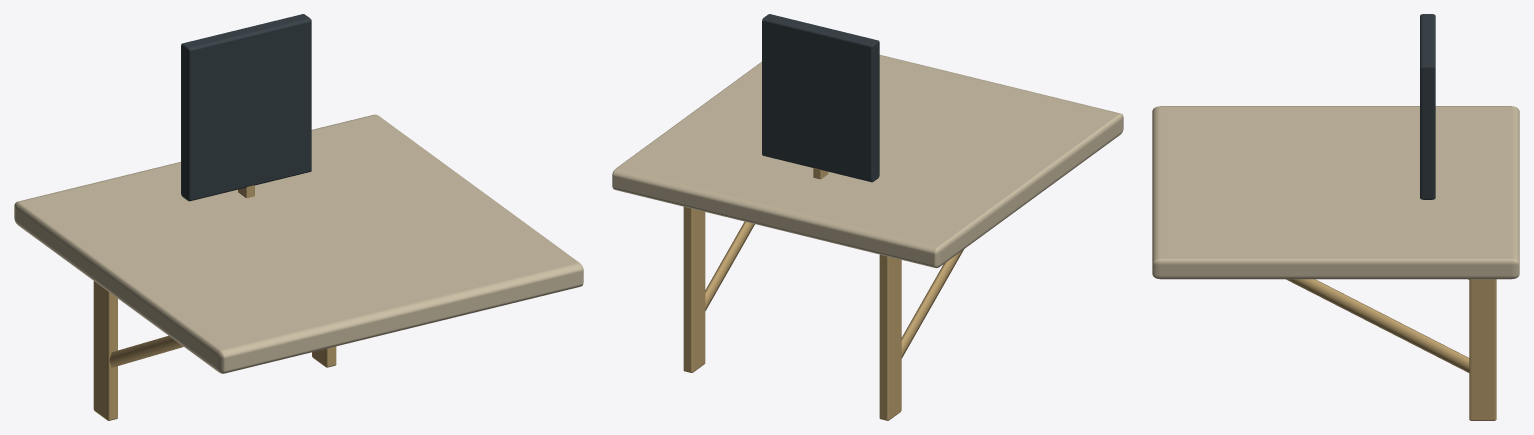
The model's file is desk-20-1.glb.
The picture shows the model from 3 angles, left to right: view 1: azimuth 30°, elevation 25°; view 2: azimuth 150°, elevation 25°; view 3: azimuth 270°, elevation 25°; orthographic projection. The views are drawn at different scales.
Parts seen in each view (by area): view 1: upholstery (×3); view 2: upholstery (×3); view 3: upholstery (×3).
Boxes of the visible parts, x1,y1,x2,y2 form: upholstery (×3): (14, 14, 583, 420); upholstery (×3): (612, 14, 1123, 420); upholstery (×3): (1152, 14, 1519, 420).
Bounding box in the file's own units: 1 × 1 × 1.
